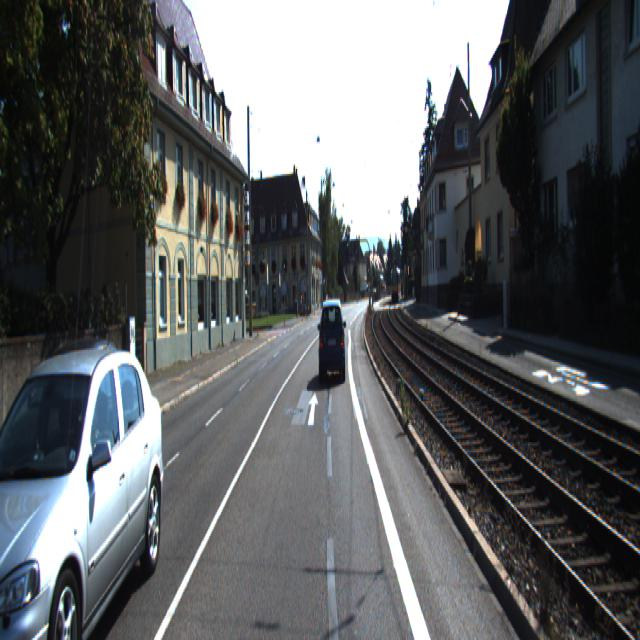Car: (0, 334, 169, 638), (4, 330, 137, 532), (318, 297, 346, 386)
